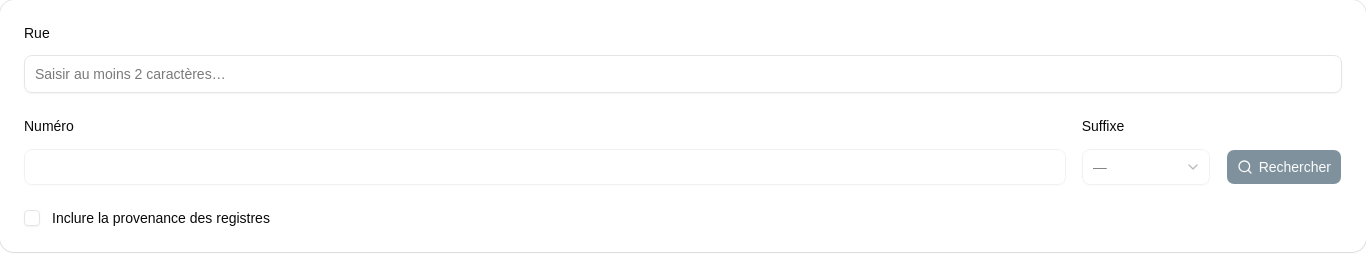
Test: AddressLookupPanel › keeps Numéro, Suffixe, and Rechercher disabled until a rue is resolved
The width and height of the screenshot is (1366, 270).
Check: the dropdown named "Suffixe" is disabled, box [1082, 148, 1210, 184]
Check: the button "Rechercher" is disabled, box [1226, 148, 1342, 184]
Type "pa" into the dropdown labelled "Rue".
click(683, 74); type("pa")  # box [25, 56, 1341, 92]
Wait 150 ms
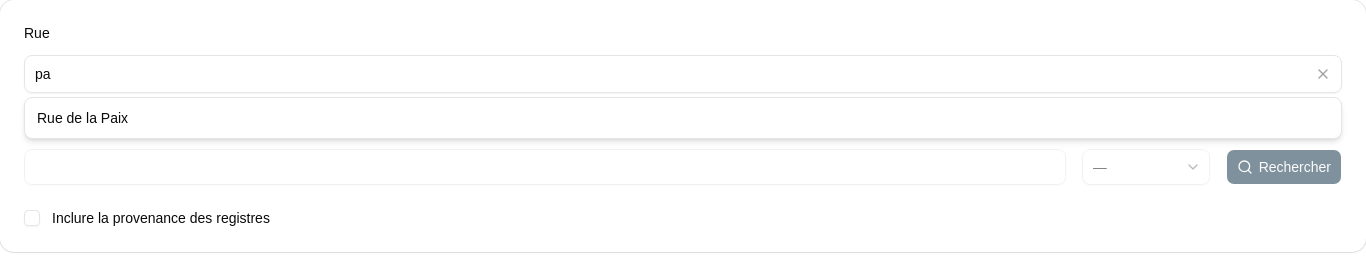
Check: the option "Rue de la Paix" is shown
Click the option "Rue de la Paix".
click(83, 118)  # box [37, 110, 128, 126]
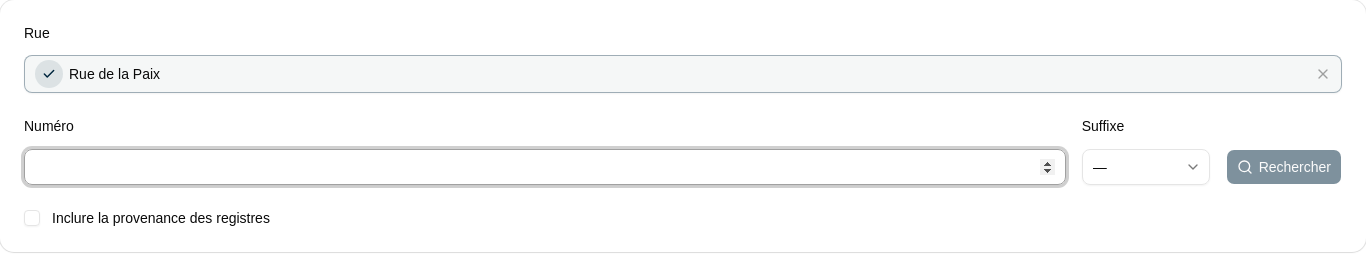
Check: the dropdown labelled "Rue" holds "Rue de la Paix", box [25, 56, 1341, 92]
Check: the number field labelled "Numéro" is enabled, box [24, 148, 1066, 184]
Check: the dropdown named "Suffixe" is enabled, box [1082, 148, 1210, 184]
